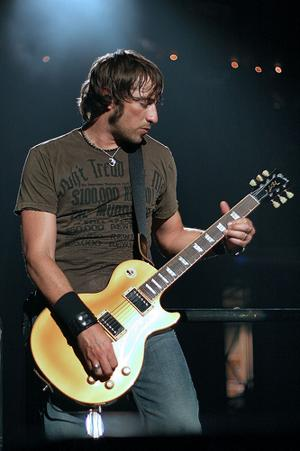person: (14, 50, 256, 442)
